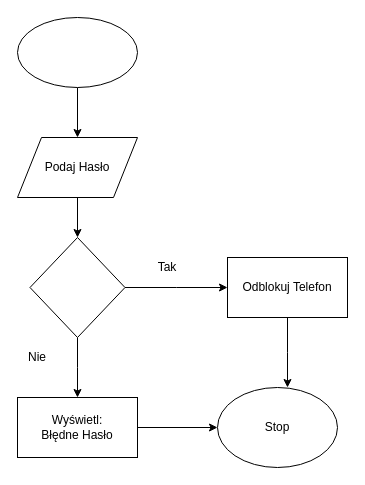
Some shapes in this 365 by 485 pixel diagram are drawn without their labels. Here are the shapes that lost their labels. From the top down, the centre of each, then its label:
At pixel 77 52: "Start".
At pixel 77 287: "Czy hasło jest prawidłowe?".
